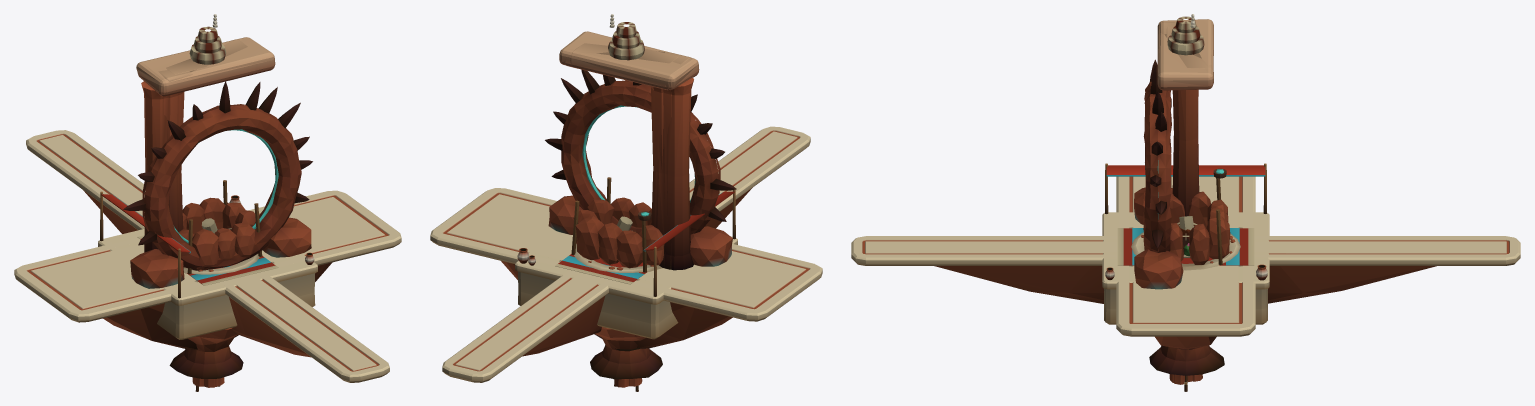
File: canyon-1-CS95bO6I.glb
3 views of the same model, side by side, from view 1: azimuth 30°, elevation 25°; view 2: azimuth 150°, elevation 25°; view 3: azimuth 270°, elevation 25° (orthographic). The views are drawn at different scales.
Visible parts, largest first — view 1: block_28x2x10#0, portal_#0, block_4x2x48#0, pad_12x2x12#0, pressFrame_6.1x6x3x7#0, hopper_4x3#0, pressFrame_4x6x2.5x7_snake#0, pressFrame_4.5x6x3x7#0, geyserVent_8#0, pressFrame_5.5x6x3x7#0; view 2: block_28x2x10#0, block_4x2x48#0, portal_#0, pad_12x2x12#0, pressFrame_6.1x6x3x7#0, hopper_4x3#0, pressFrame_4x6x2.5x7_snake#0, pressFrame_5.5x6x3x7#0, pressFrame_4.5x6x3x7#0, geyserVent_8#0; view 3: block_4x2x48#0, block_28x2x10#0, pad_12x2x12#0, portal_#0, pressFrame_4x6x2.5x7_snake#0, hopper_4x3#0, pressFrame_6.1x6x3x7#0, geyserVent_8#0, pressFrame_4.5x6x3x7#0.
Boxes of the visible parts, x1=… form: block_28x2x10#0: x1=14, y1=190, x2=401, y2=349; portal_#0: x1=123, y1=81, x2=312, y2=288; block_4x2x48#0: x1=26, y1=130, x2=389, y2=382; pad_12x2x12#0: x1=98, y1=191, x2=317, y2=378; pressFrame_6.1x6x3x7#0: x1=136, y1=37, x2=275, y2=252; hopper_4x3#0: x1=178, y1=180, x2=262, y2=274; pressFrame_4x6x2.5x7_snake#0: x1=166, y1=14, x2=226, y2=231; pressFrame_4.5x6x3x7#0: x1=167, y1=39, x2=262, y2=231; geyserVent_8#0: x1=183, y1=254, x2=262, y2=274; pressFrame_5.5x6x3x7#0: x1=158, y1=70, x2=192, y2=140; block_28x2x10#0: x1=430, y1=188, x2=822, y2=348; block_4x2x48#0: x1=442, y1=126, x2=810, y2=382; portal_#0: x1=545, y1=69, x2=736, y2=266; pad_12x2x12#0: x1=515, y1=189, x2=737, y2=379; pressFrame_6.1x6x3x7#0: x1=559, y1=31, x2=699, y2=270; hopper_4x3#0: x1=571, y1=177, x2=664, y2=272; pressFrame_4x6x2.5x7_snake#0: x1=597, y1=14, x2=678, y2=227; pressFrame_5.5x6x3x7#0: x1=564, y1=52, x2=691, y2=269; pressFrame_4.5x6x3x7#0: x1=570, y1=43, x2=665, y2=267; geyserVent_8#0: x1=574, y1=244, x2=662, y2=272; block_4x2x48#0: x1=851, y1=236, x2=1520, y2=303; block_28x2x10#0: x1=1116, y1=176, x2=1255, y2=349; pad_12x2x12#0: x1=1102, y1=163, x2=1269, y2=375; portal_#0: x1=1134, y1=59, x2=1183, y2=289; pressFrame_4x6x2.5x7_snake#0: x1=1166, y1=14, x2=1204, y2=216; hopper_4x3#0: x1=1143, y1=168, x2=1230, y2=265; pressFrame_6.1x6x3x7#0: x1=1157, y1=19, x2=1213, y2=186; geyserVent_8#0: x1=1131, y1=232, x2=1240, y2=270; pressFrame_4.5x6x3x7#0: x1=1157, y1=34, x2=1213, y2=194.
Bounding box in the file's own units: 28 × 29.86 × 48.
